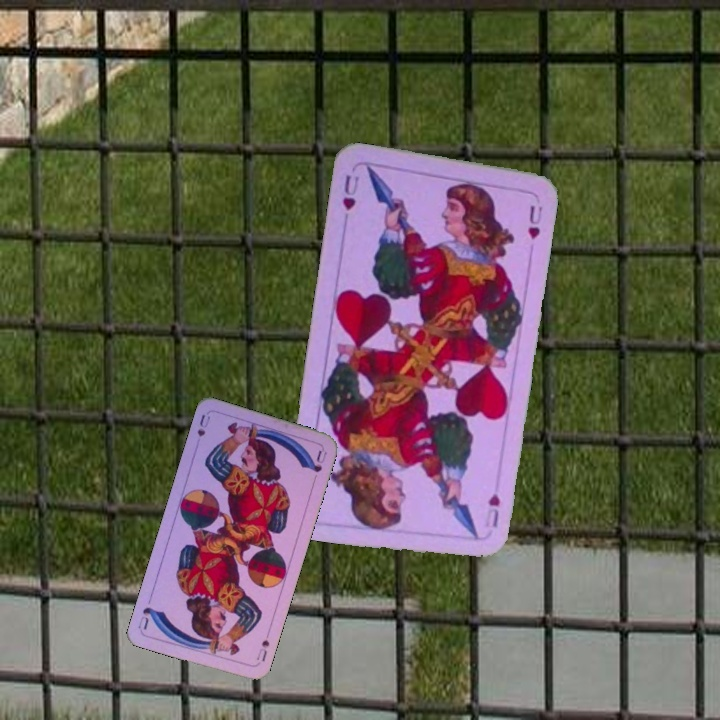HU: (338, 171, 361, 213), (480, 489, 503, 530)
SU: (191, 410, 213, 450), (252, 635, 272, 667)
